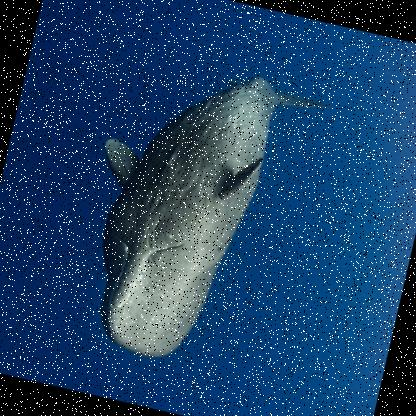sperm_whale: (23, 34, 320, 410)
